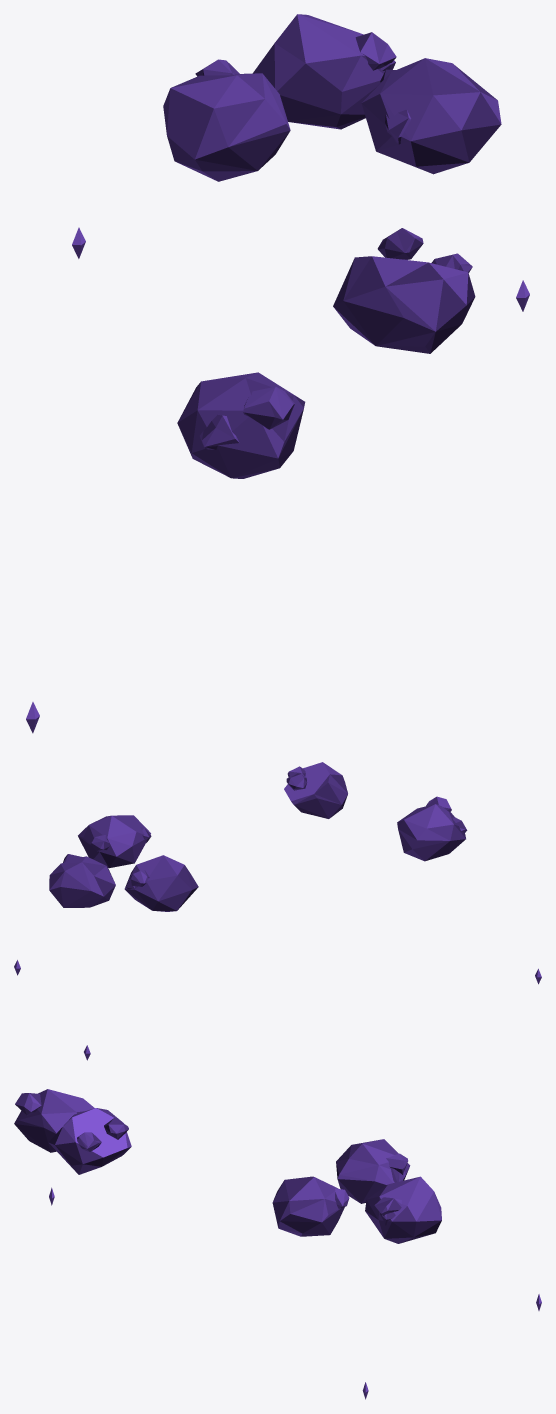
Rendered from Leaves_C.glb.
The picture shows the model from 3 angles, top to bottom: view 1: azimuth 30°, elevation 25°; view 2: azimuth 150°, elevation 25°; view 3: azimuth 270°, elevation 25°; orthographic projection. The views are drawn at different scales.
Parts seen in each view (by area): view 1: Leaves; view 2: Leaves; view 3: Leaves.
Boxes of the visible parts, <box> form: Leaves: <box>26,14,529,733</box>; Leaves: <box>14,762,541,1060</box>; Leaves: <box>14,1089,541,1399</box>.
Size of the model in its own units: 25.65 by 11.3 by 26.43.
